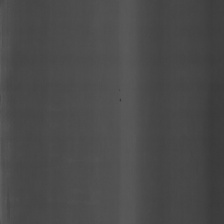inclusion: (3, 184, 14, 222), (117, 85, 124, 105)
